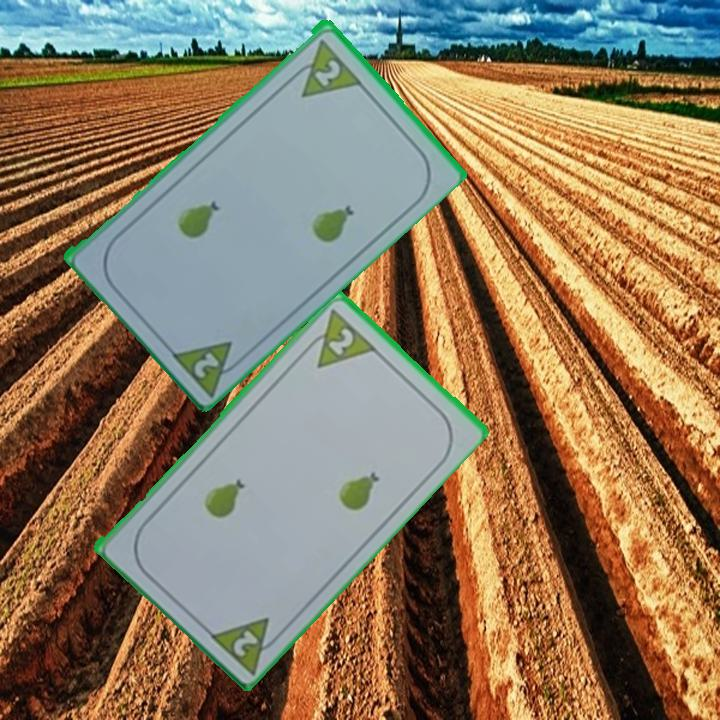2p: (204, 612, 287, 676), (284, 34, 363, 100), (324, 323, 357, 358), (190, 348, 223, 381)
